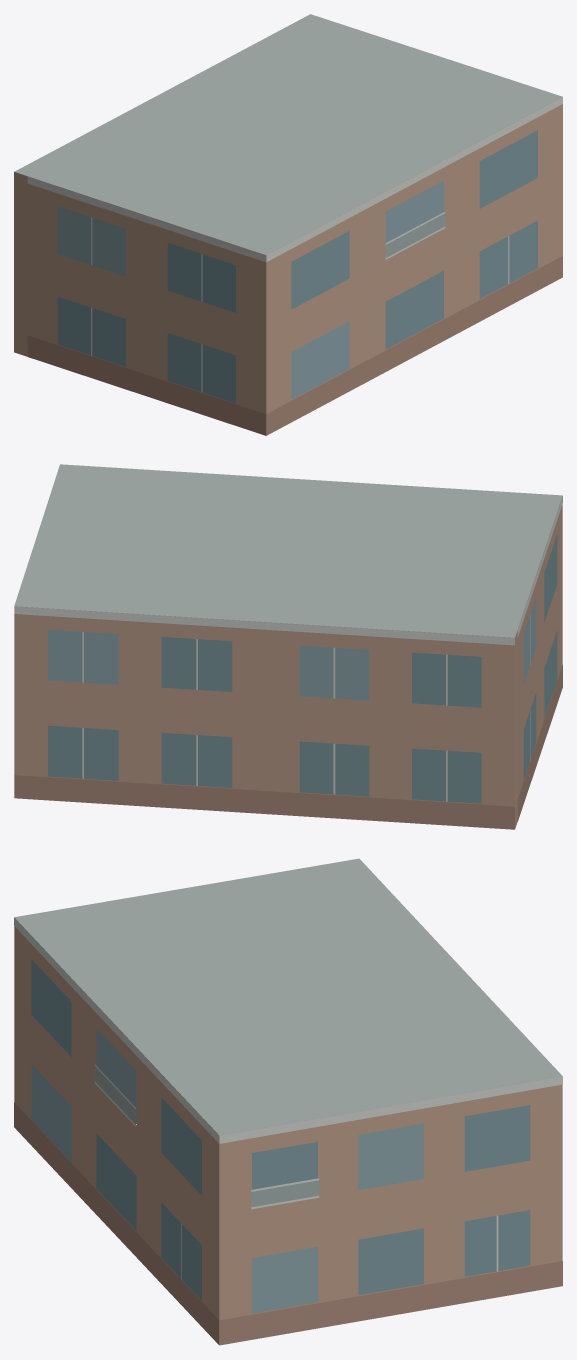
File: survey-upis-32998443.glb
3 views of the same model, one above another, from view 1: azimuth 30°, elevation 25°; view 2: azimuth 150°, elevation 25°; view 3: azimuth 270°, elevation 25° (orthographic). The views are drawn at different scales.
Visible parts, largest first — view 1: survey-upis-32998443.tmp; view 2: survey-upis-32998443.tmp; view 3: survey-upis-32998443.tmp.
Boxes of the visible parts, x1=… form: survey-upis-32998443.tmp: x1=14, y1=14, x2=562, y2=435; survey-upis-32998443.tmp: x1=14, y1=464, x2=562, y2=829; survey-upis-32998443.tmp: x1=14, y1=858, x2=562, y2=1345.
Bounding box in the file's own units: 17.27 × 6.1 × 14.46.
